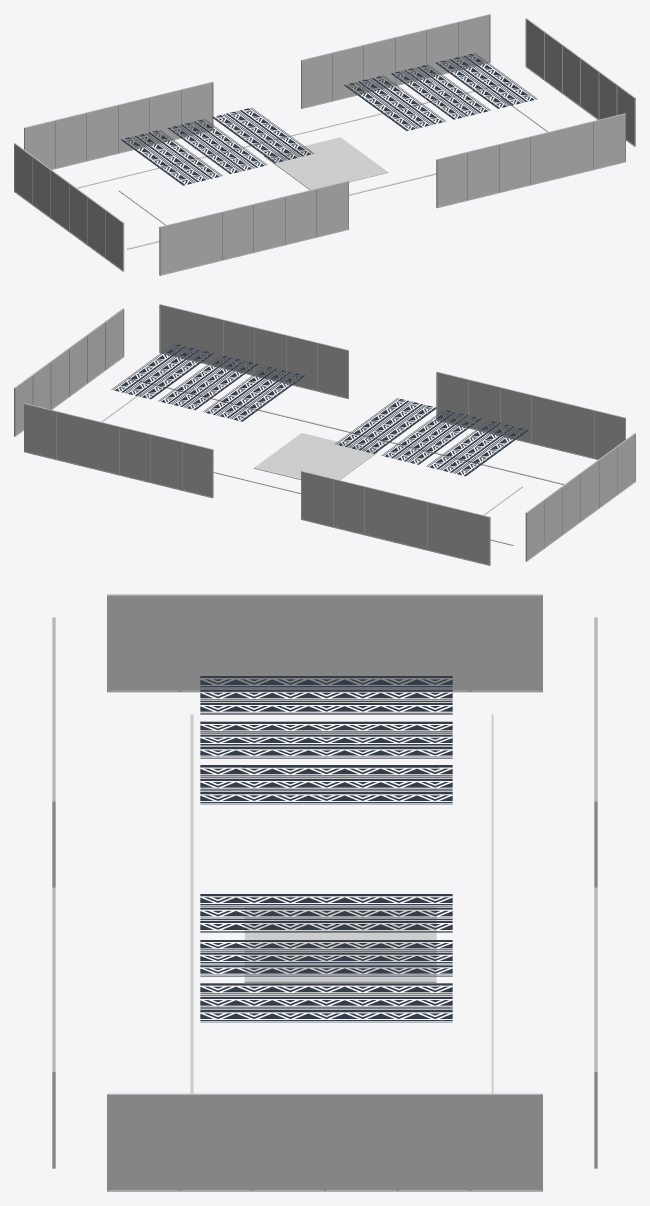
The model's file is Exhibition_Details.fbx.
The picture shows the model from 3 angles, top to bottom: view 1: azimuth 30°, elevation 25°; view 2: azimuth 150°, elevation 25°; view 3: azimuth 270°, elevation 25°; orthographic projection. The views are drawn at different scales.
Visible parts, largest first — view 1: Windows_3, Windows_4, Windows_5, Windows_6, Window_Ceiling_2, Window_Ceiling_1, Windows_1, Windows_2, Column_Emission, Frame_3, Frame_4, Frame_5 (+4 smaller); view 2: Windows_5, Windows_6, Windows_4, Windows_3, Window_Ceiling_1, Window_Ceiling_2, Windows_1, Windows_2, Column_Emission, Frame_5, Frame_6, Frame_4 (+4 smaller); view 3: Windows_2, Windows_1, Window_Ceiling_1, Window_Ceiling_2, Column_Emission, Frame_1, Frame_2, Floor_Emission_3, Floor_Emission_1, Frame_4, Frame_5, Frame_3 (+1 smaller).
Part boxes in pixels (x1=…): Windows_3: x1=161, y1=182, x2=348, y2=274; Windows_4: x1=437, y1=114, x2=624, y2=206; Windows_5: x1=302, y1=15, x2=489, y2=107; Windows_6: x1=25, y1=83, x2=212, y2=169; Window_Ceiling_2: x1=344, y1=53, x2=537, y2=130; Window_Ceiling_1: x1=120, y1=107, x2=314, y2=185; Windows_1: x1=14, y1=145, x2=122, y2=269; Windows_2: x1=526, y1=20, x2=634, y2=144; Column_Emission: x1=264, y1=137, x2=388, y2=189; Frame_3: x1=159, y1=181, x2=348, y2=275; Frame_4: x1=436, y1=113, x2=625, y2=208; Frame_5: x1=301, y1=14, x2=490, y2=108; Windows_5: x1=24, y1=404, x2=212, y2=496; Windows_6: x1=301, y1=472, x2=488, y2=564; Windows_4: x1=160, y1=305, x2=347, y2=397; Windows_3: x1=437, y1=373, x2=624, y2=459; Window_Ceiling_1: x1=334, y1=398, x2=528, y2=476; Window_Ceiling_2: x1=111, y1=344, x2=304, y2=421; Windows_1: x1=527, y1=435, x2=635, y2=559; Windows_2: x1=15, y1=310, x2=123, y2=434; Column_Emission: x1=253, y1=433, x2=377, y2=479; Frame_5: x1=24, y1=403, x2=213, y2=498; Frame_6: x1=301, y1=471, x2=490, y2=565; Frame_4: x1=159, y1=304, x2=348, y2=398; Windows_2: x1=108, y1=1096, x2=541, y2=1189; Windows_1: x1=108, y1=596, x2=541, y2=690; Window_Ceiling_1: x1=200, y1=676, x2=452, y2=804; Window_Ceiling_2: x1=200, y1=894, x2=452, y2=1022; Column_Emission: x1=244, y1=907, x2=436, y2=982; Frame_1: x1=107, y1=594, x2=542, y2=692; Frame_2: x1=107, y1=1093, x2=542, y2=1191; Floor_Emission_3: x1=190, y1=714, x2=193, y2=1093; Floor_Emission_1: x1=491, y1=714, x2=493, y2=1093; Frame_4: x1=52, y1=887, x2=55, y2=1168; Frame_5: x1=594, y1=887, x2=597, y2=1168; Frame_3: x1=52, y1=617, x2=55, y2=887.
Size of the model in its own units: 5433 by 490 by 2500.
